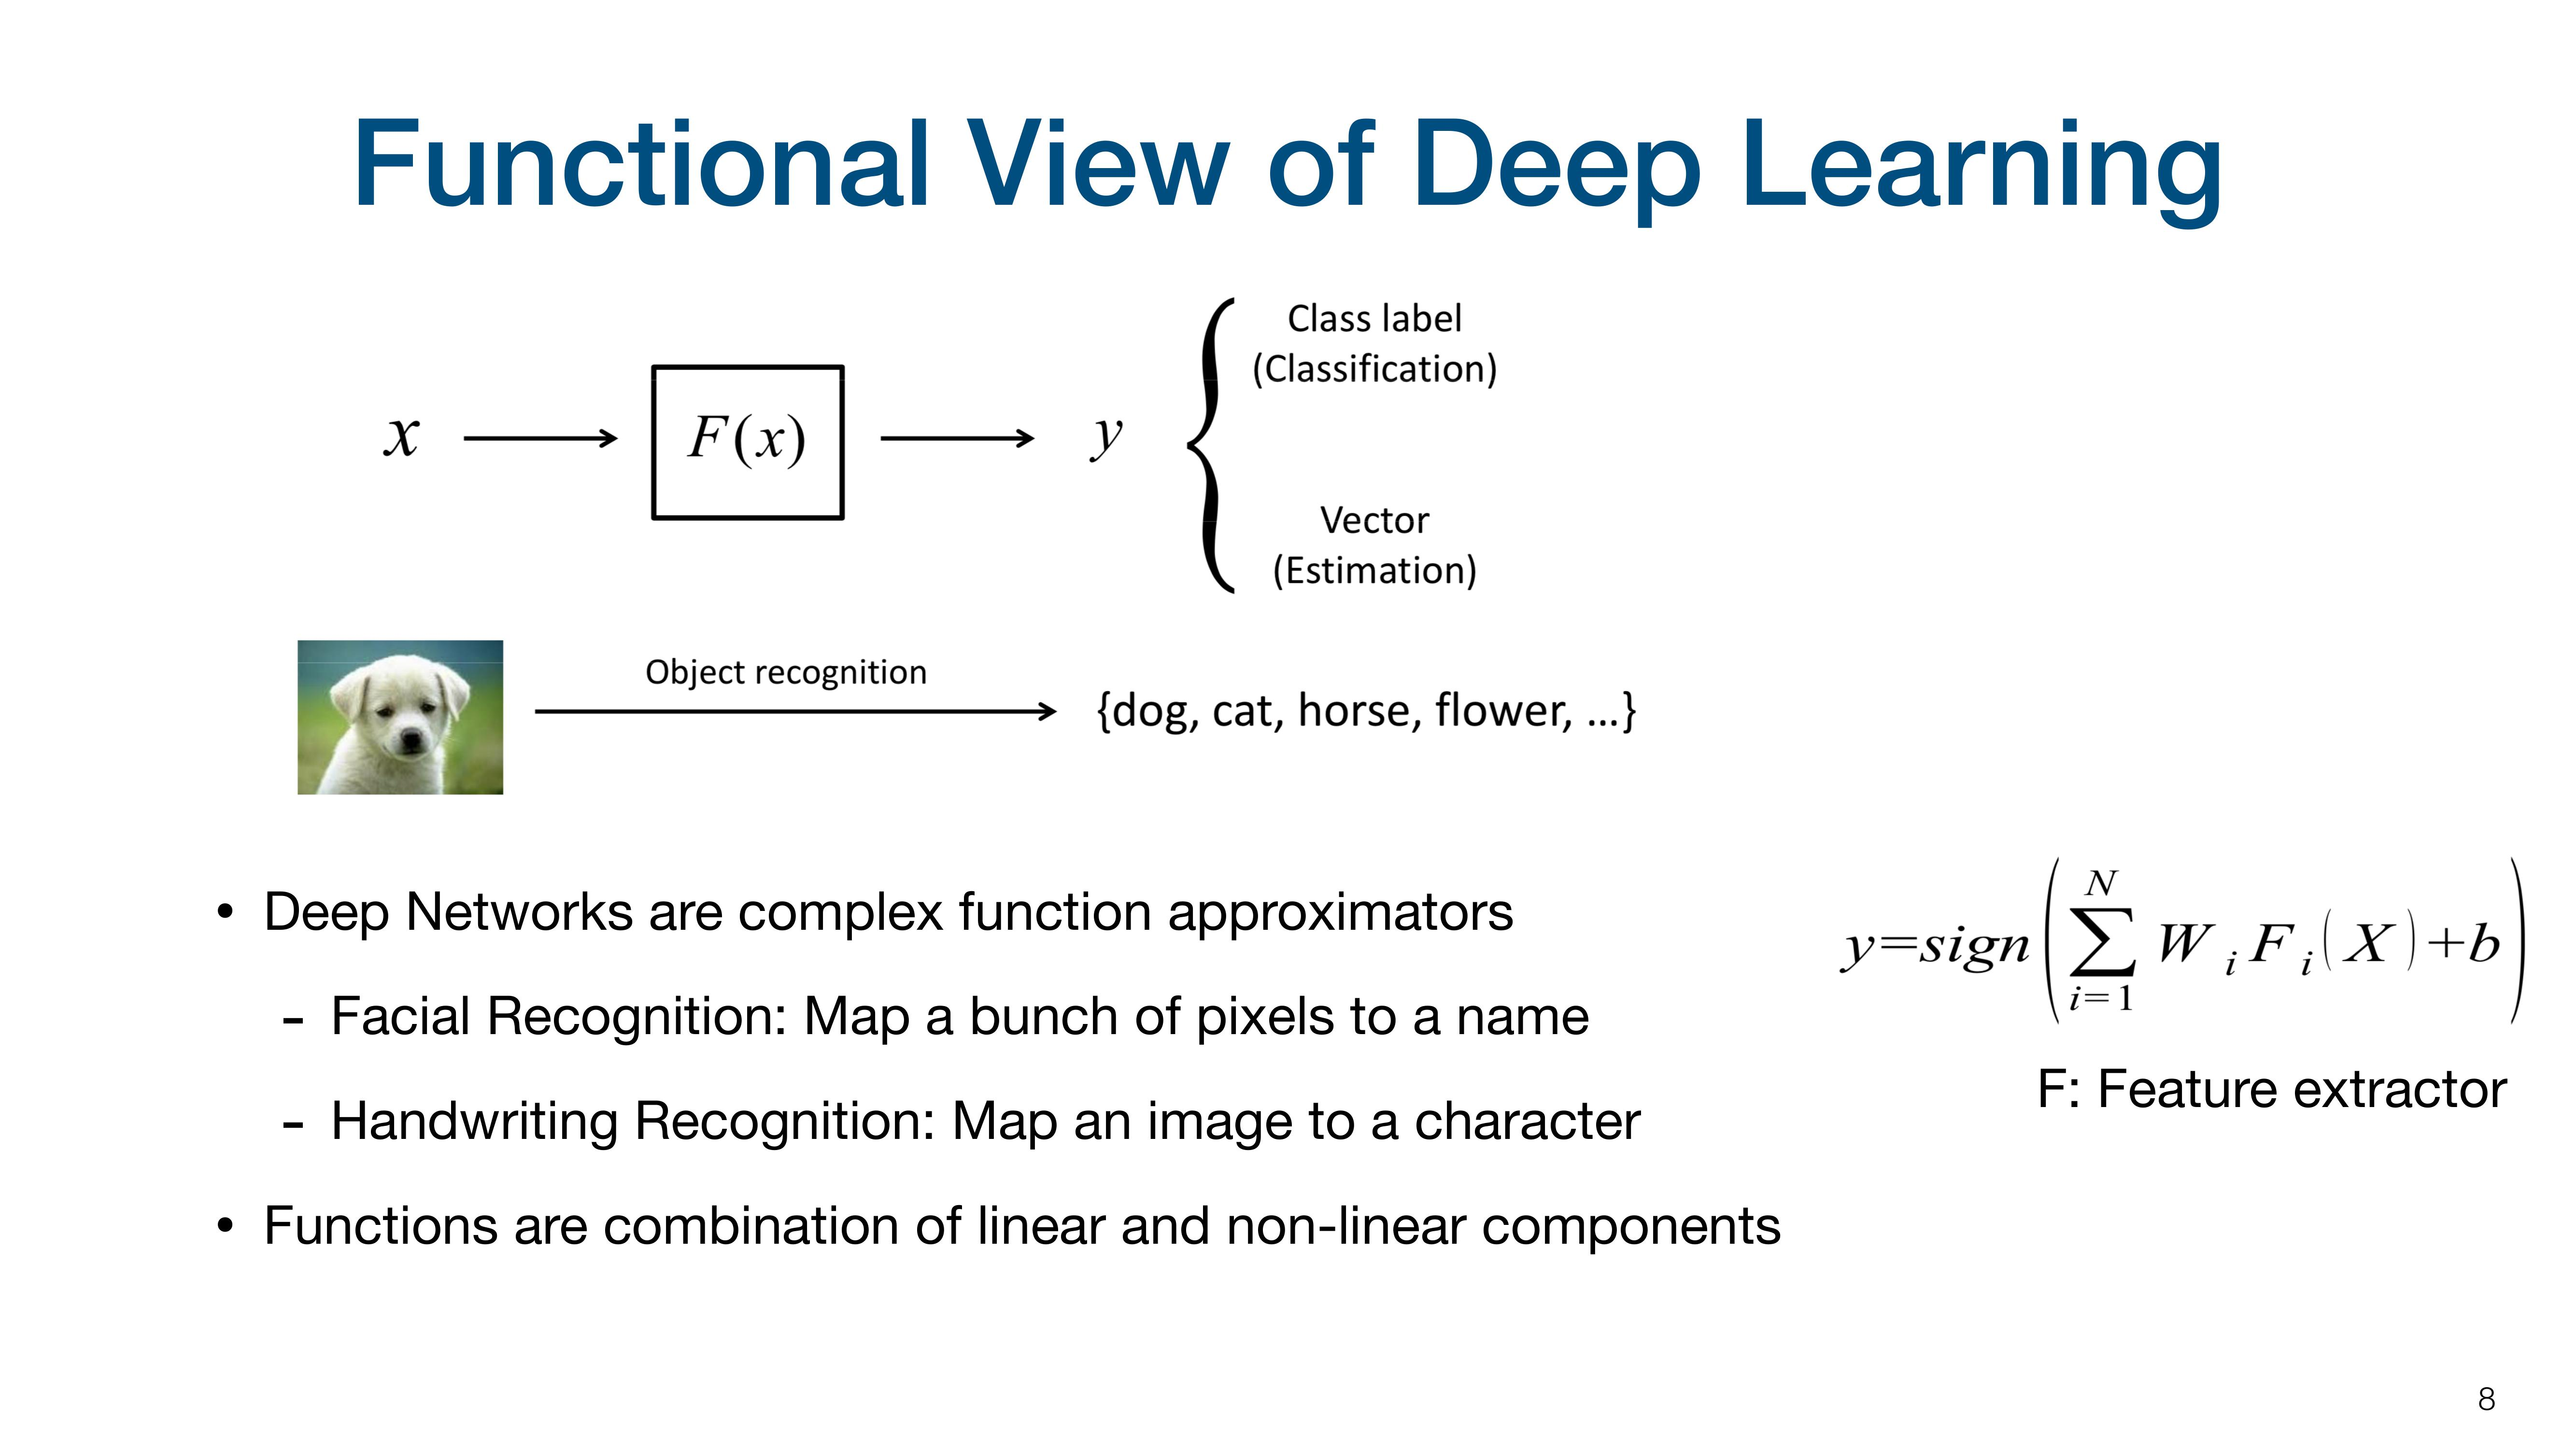Title: (354, 99, 2231, 267)
